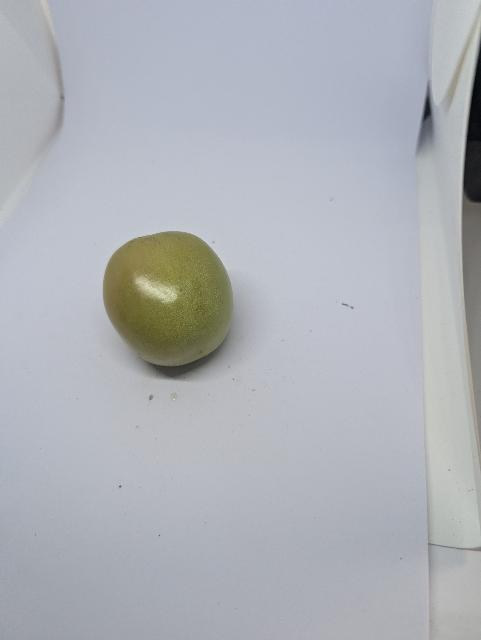breaker: (98, 228, 239, 371)
